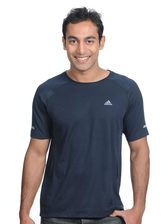clothoes: (28, 67, 151, 218)
